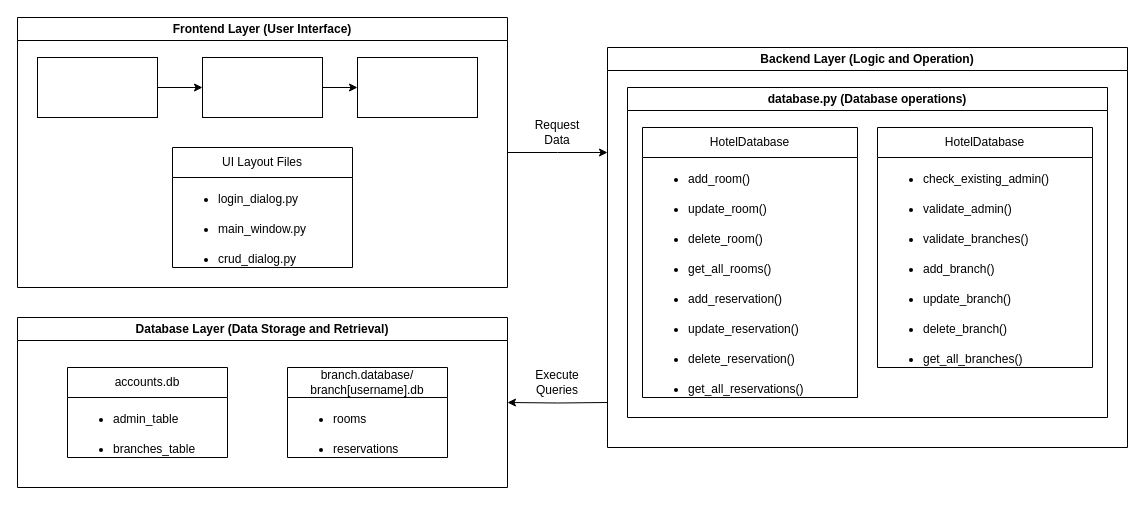
The diagram is 1145 pixels wide and 505 high, and some of its shapes have lost their labels. The centre of each missing label's shape, as x and y in pixels:
Crud.py (Form UI): pixel 417 87
Login.py (Login UI): pixel 97 87
Main.py (Main UI): pixel 262 87
